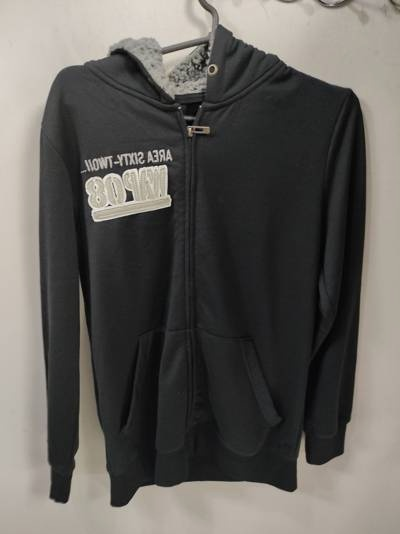Hoodie: (16, 18, 369, 504)
